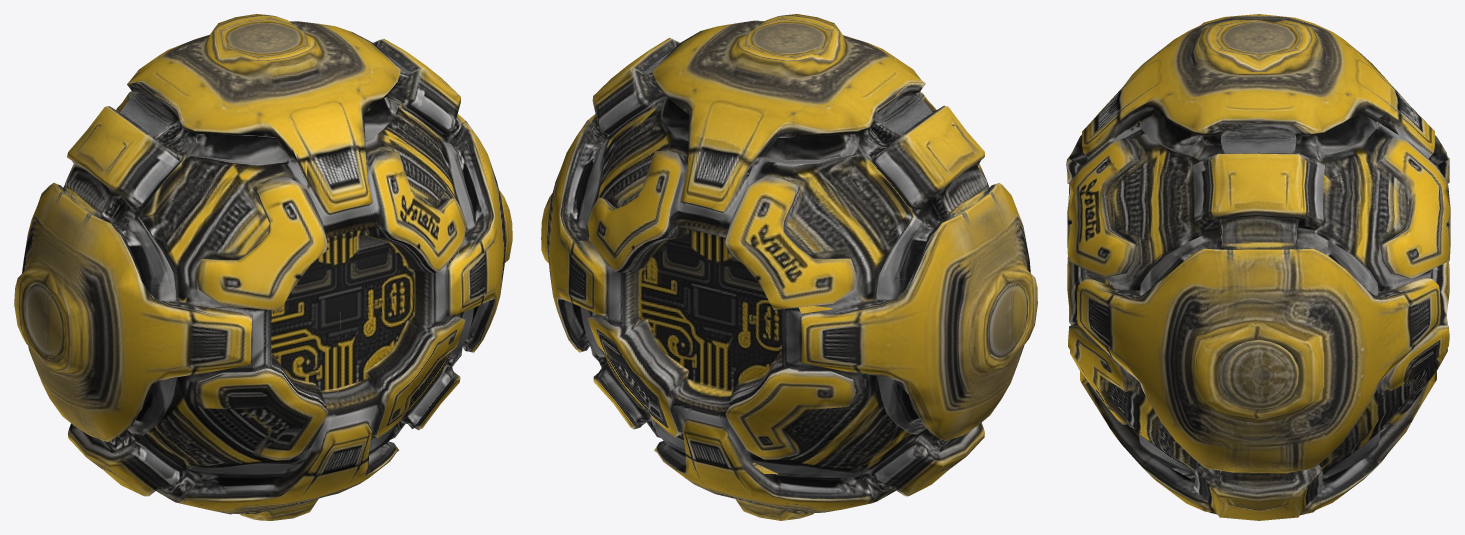
Rendered from yellow.glb.
The picture shows the model from 3 angles, left to right: view 1: azimuth 30°, elevation 25°; view 2: azimuth 150°, elevation 25°; view 3: azimuth 270°, elevation 25°; orthographic projection.
Parts seen in each view (by area): view 1: mesh_node; view 2: mesh_node; view 3: mesh_node.
Part boxes in pixels (left/top/right/bottom): mesh_node: left=14, top=14, right=512, bottom=520; mesh_node: left=541, top=14, right=1037, bottom=520; mesh_node: left=1066, top=14, right=1450, bottom=520.
Bounding box in the file's own units: 1 × 1 × 0.7559.
1 material, 1 textured.
